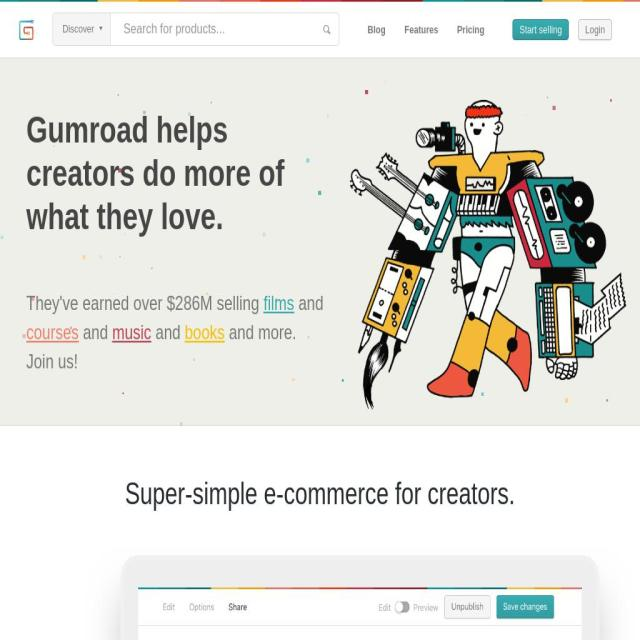button: (53, 13, 111, 45), (512, 18, 570, 40), (578, 18, 612, 40), (18, 18, 34, 40)
field: (52, 12, 340, 46)
heading: (26, 109, 326, 238), (94, 476, 546, 512), (26, 321, 296, 372), (26, 292, 263, 314), (26, 321, 79, 343), (184, 321, 225, 343), (112, 321, 152, 343), (151, 321, 186, 343), (78, 321, 112, 343), (263, 292, 295, 314), (294, 292, 324, 314)
image: (0, 0, 640, 640), (349, 108, 640, 376), (138, 587, 582, 640), (18, 18, 34, 40)
link: (404, 20, 438, 38), (457, 20, 485, 38), (368, 20, 386, 38)
